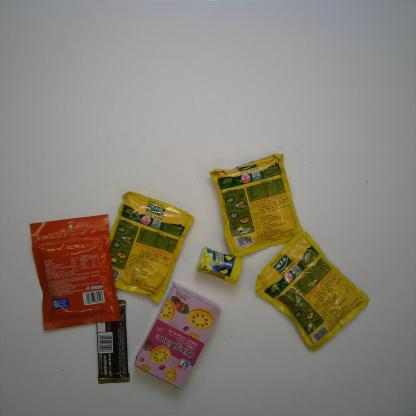Chocolate: (92, 296, 135, 388)
Dessert: (130, 280, 224, 391)
Dried Fruit: (29, 212, 121, 333)
Gum: (193, 245, 244, 286)
Seasoner: (254, 231, 374, 352), (90, 190, 196, 306), (209, 147, 305, 257)
